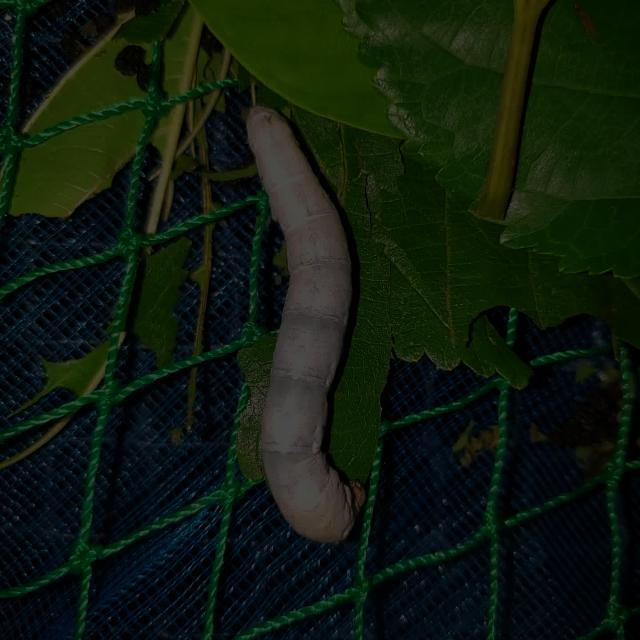Healthy: (169, 70, 456, 578)
